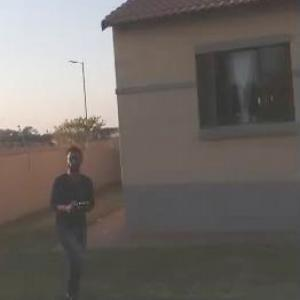follow: (45, 140, 102, 299)
